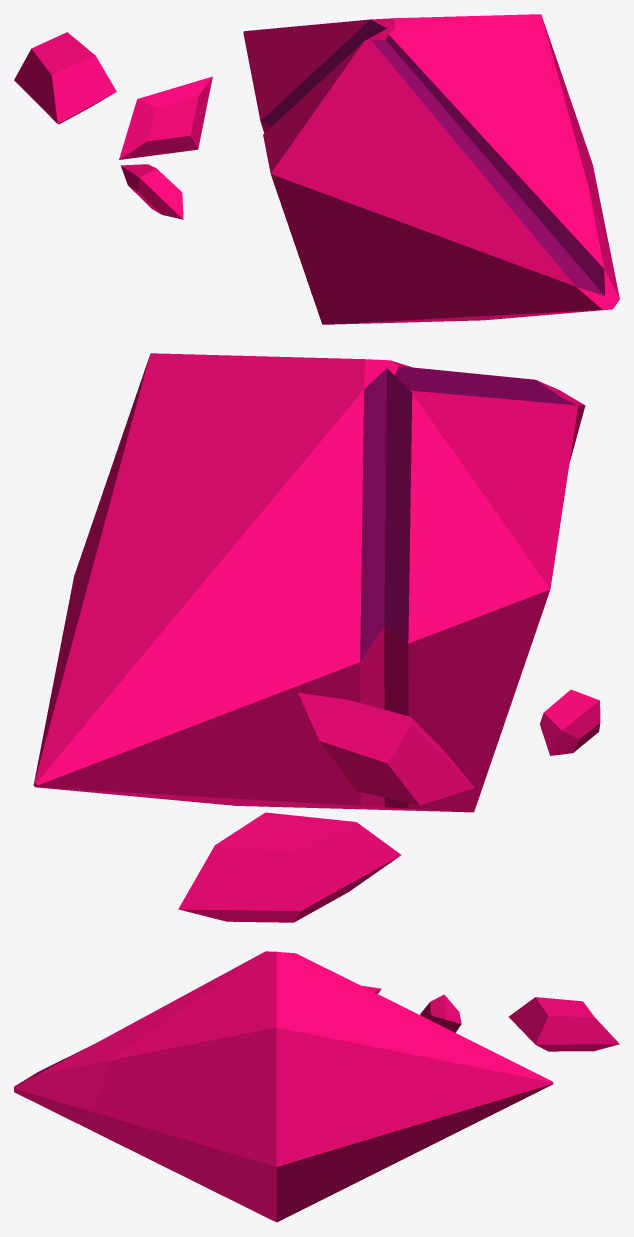
File: CrystalCrackedIcon.fbx
3 views of the same model, one above another, from view 1: azimuth 30°, elevation 25°; view 2: azimuth 150°, elevation 25°; view 3: azimuth 270°, elevation 25° (orthographic). The views are drawn at different scales.
Visible parts, largest first — view 1: Cube.002; view 2: Cube.002; view 3: Cube.002.
Part boxes in pixels (bbox=[...]): Cube.002: bbox=[14, 14, 619, 324]; Cube.002: bbox=[33, 353, 600, 922]; Cube.002: bbox=[14, 951, 619, 1222].
Size of the model in its own units: 106 by 80.81 by 186.
